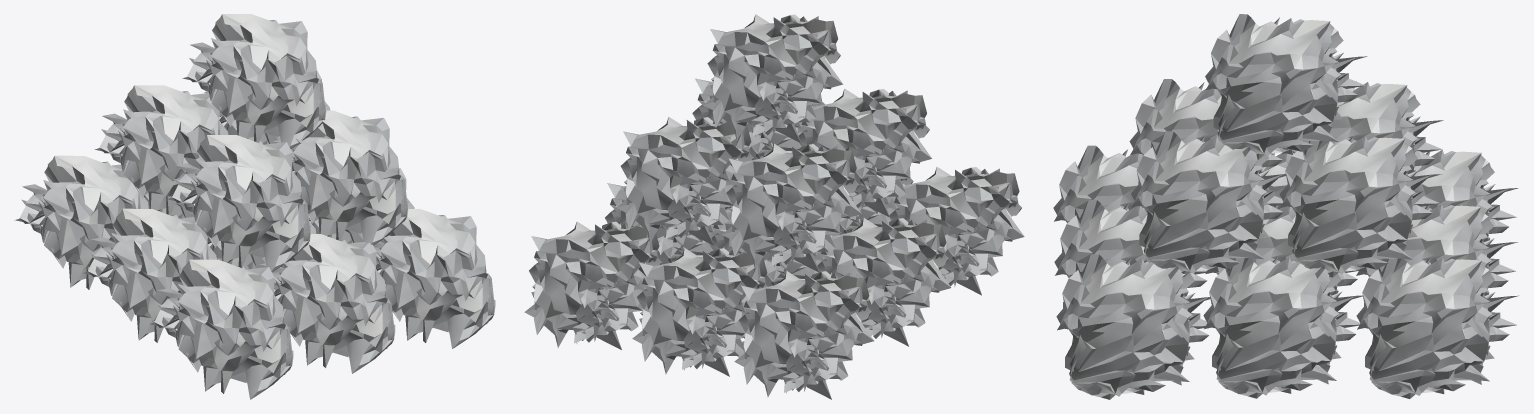
File: OrePile_Coal.glb
3 views of the same model, side by side, from view 1: azimuth 30°, elevation 25°; view 2: azimuth 150°, elevation 25°; view 3: azimuth 270°, elevation 25° (orthographic). The views are drawn at different scales.
Parts seen in each view (by area): view 1: OrePile_Coal; view 2: OrePile_Coal; view 3: OrePile_Coal.
Part boxes in pixels (x1=…): OrePile_Coal: x1=14, y1=14, x2=495, y2=399; OrePile_Coal: x1=524, y1=14, x2=1024, y2=399; OrePile_Coal: x1=1053, y1=14, x2=1518, y2=399.
Size of the model in its own units: 2.81 by 2.48 by 3.33.
Materials: 1 (1 with a texture image).
